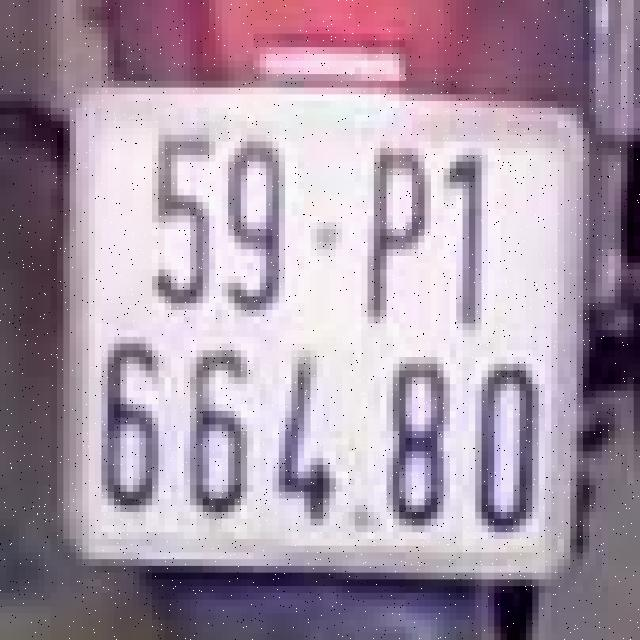0: (466, 344, 548, 539)
1: (440, 135, 485, 337)
4: (269, 334, 339, 536)
5: (136, 125, 219, 313)
6: (95, 330, 171, 519), (184, 340, 260, 522)
8: (374, 350, 456, 532)
9: (212, 128, 295, 317)
P: (358, 128, 434, 330)
